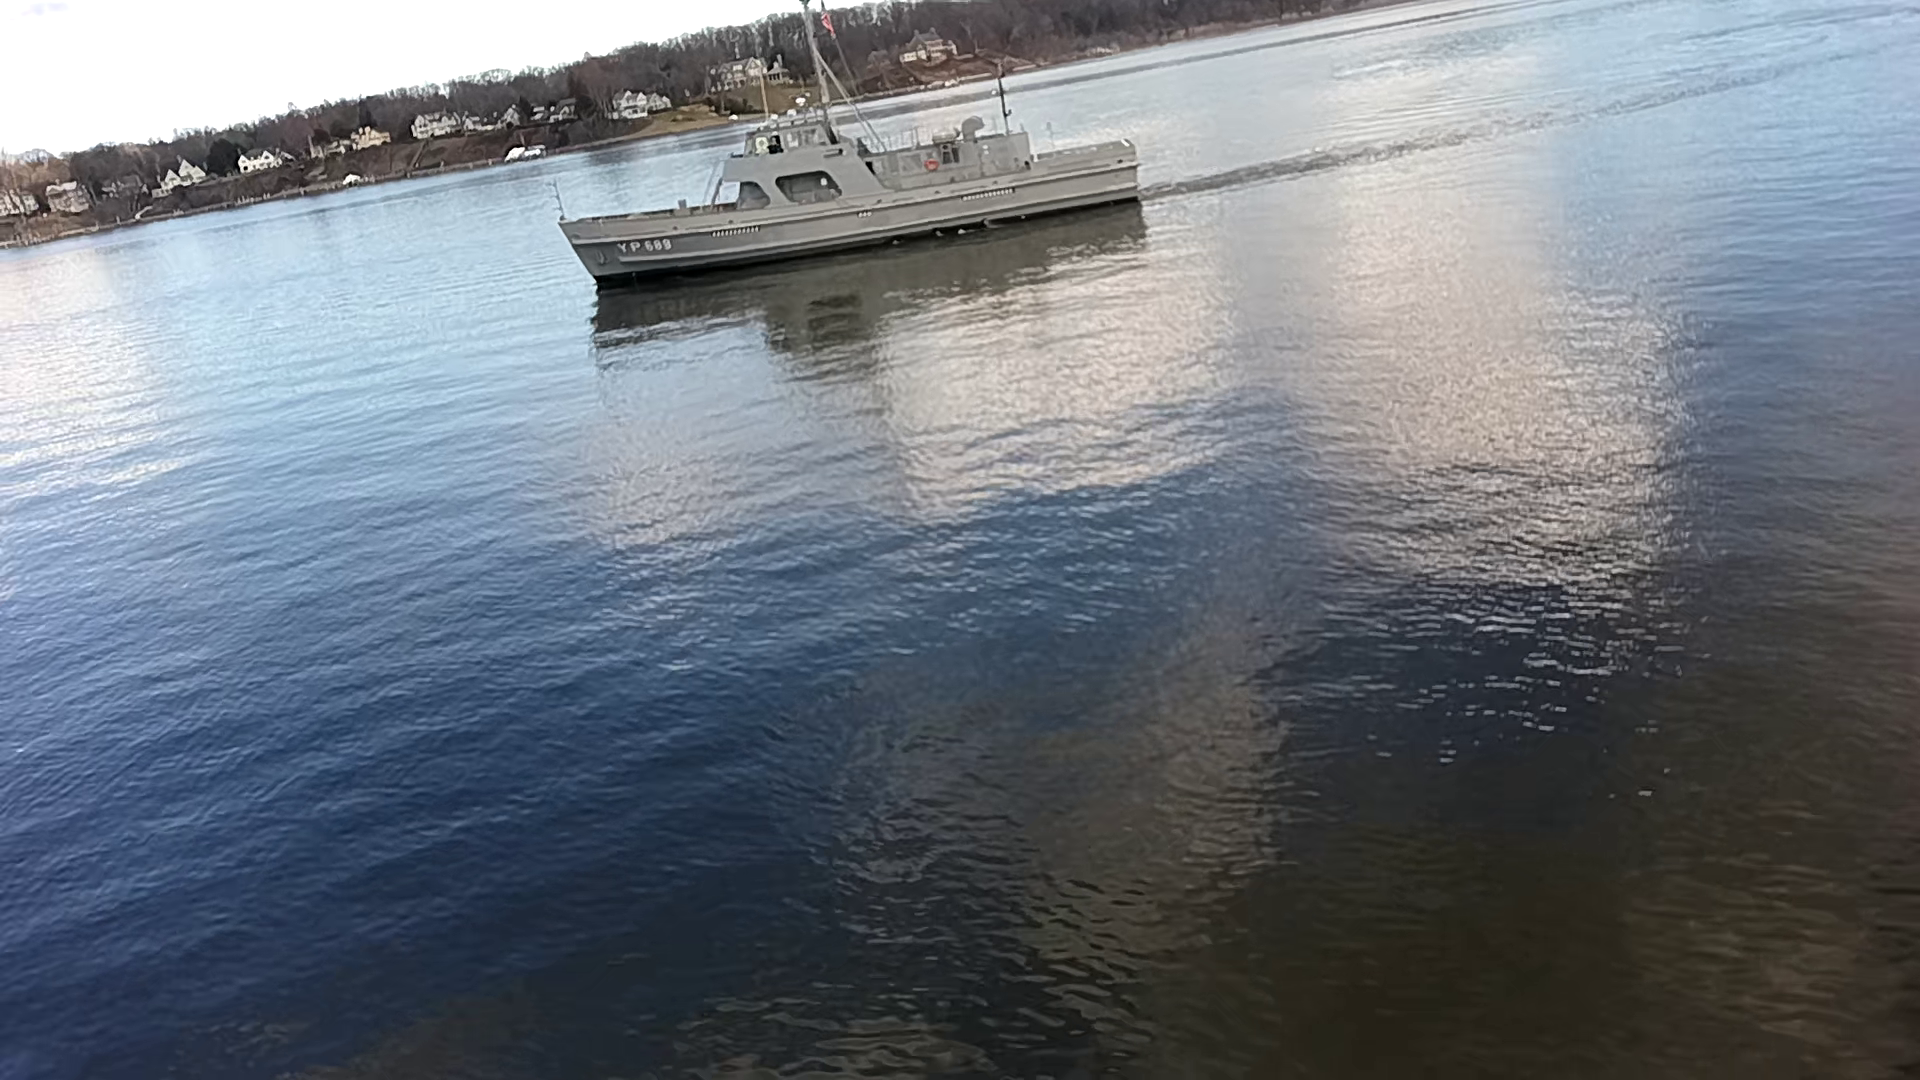YP689: (554, 0, 1142, 290)
